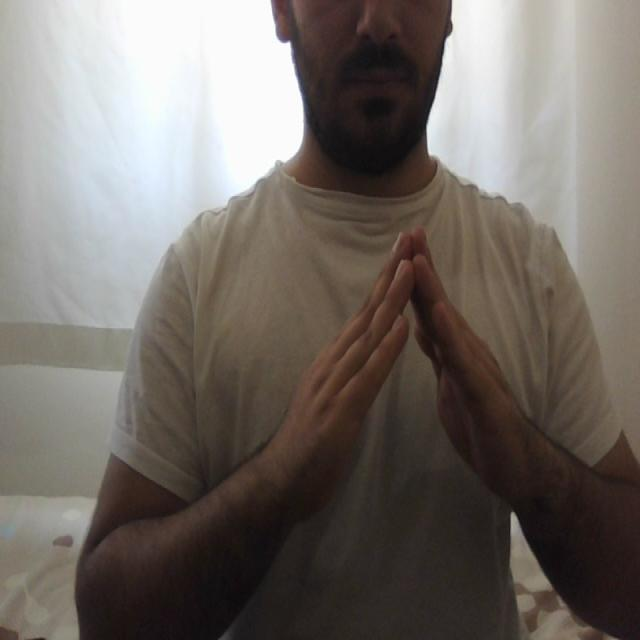Ev: (248, 217, 551, 521)
